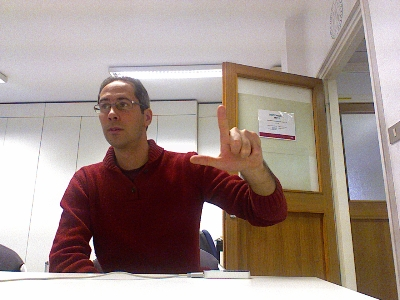枪: (189, 103, 265, 174)
